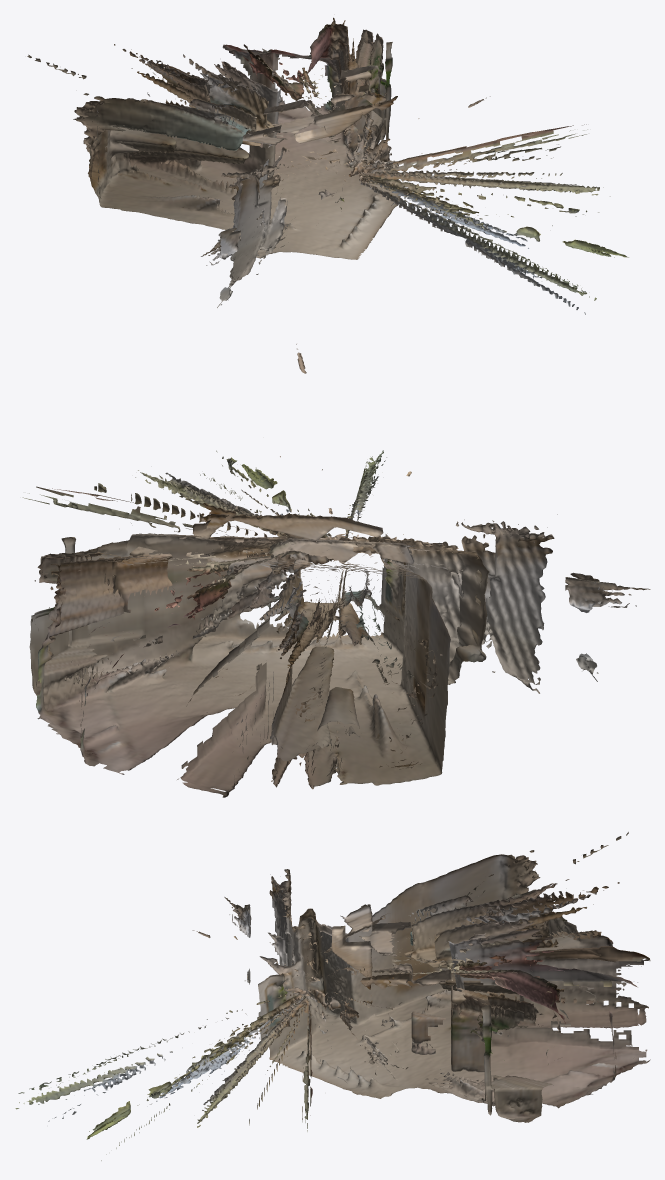
Rendered from collider.glb.
The picture shows the model from 3 angles, top to bottom: view 1: azimuth 30°, elevation 25°; view 2: azimuth 150°, elevation 25°; view 3: azimuth 270°, elevation 25°; orthographic projection. The views are drawn at different scales.
Parts seen in each view (by area): view 1: world; view 2: world; view 3: world.
Boxes of the visible parts, x1=… form: world: x1=27, y1=17, x2=628, y2=314; world: x1=22, y1=344, x2=650, y2=797; world: x1=15, y1=832, x2=650, y2=1160.
Size of the model in its own units: 23.12 by 8.86 by 26.97.
